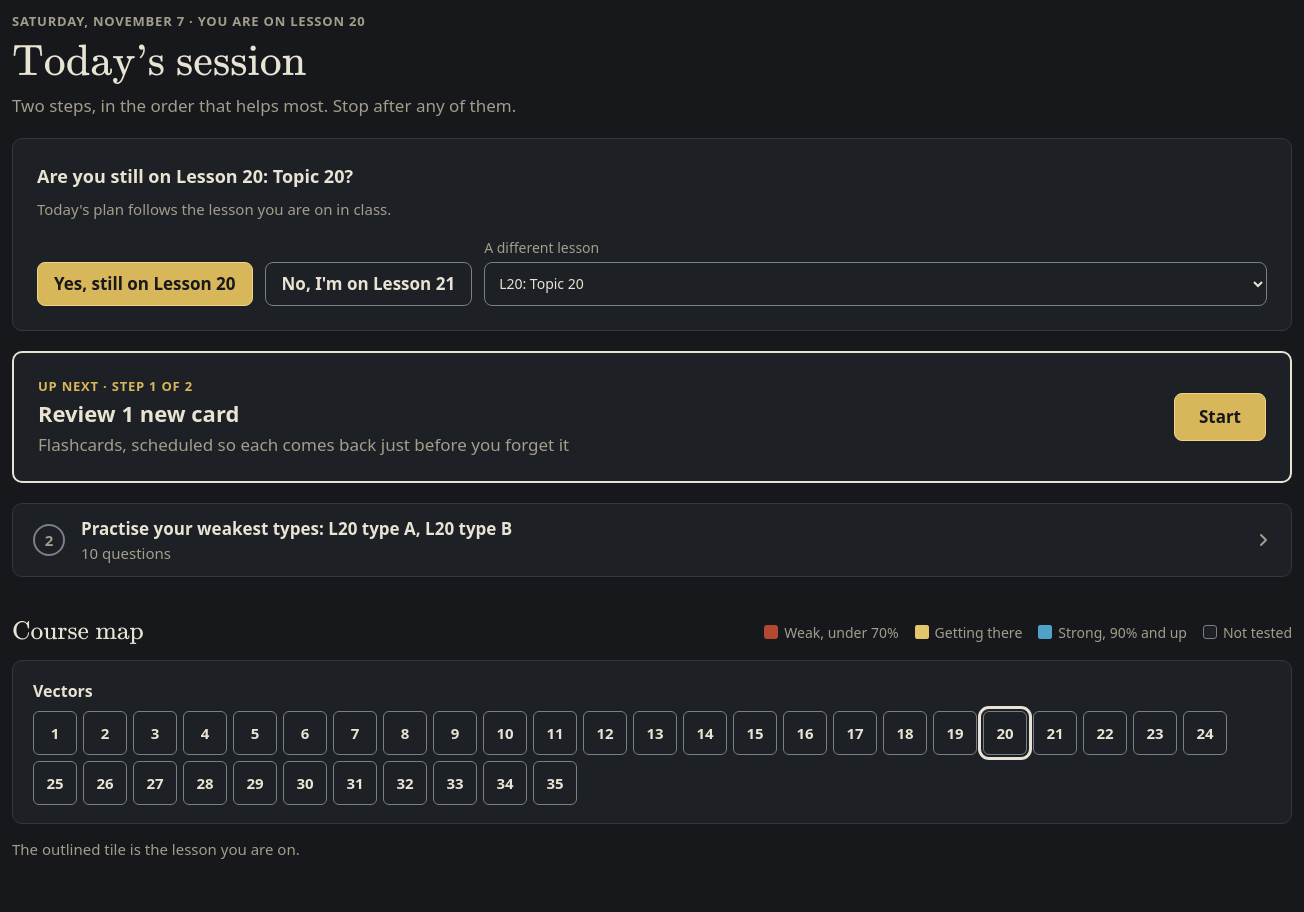
Test: the first visit of a day asks whether the current lesson is still right, and Yes settles it for the day
This screenshot has width=1304, height=912.
Expected: the heading "Today's session" is shown, 12,35 -> 306,87
Expected: the text "Are you still on Lesson 20: Topic 20?" is shown, 37,164 -> 353,188
Click the button "Yes, still on Lesson 20" at (145, 284), box 37,262 -> 252,306
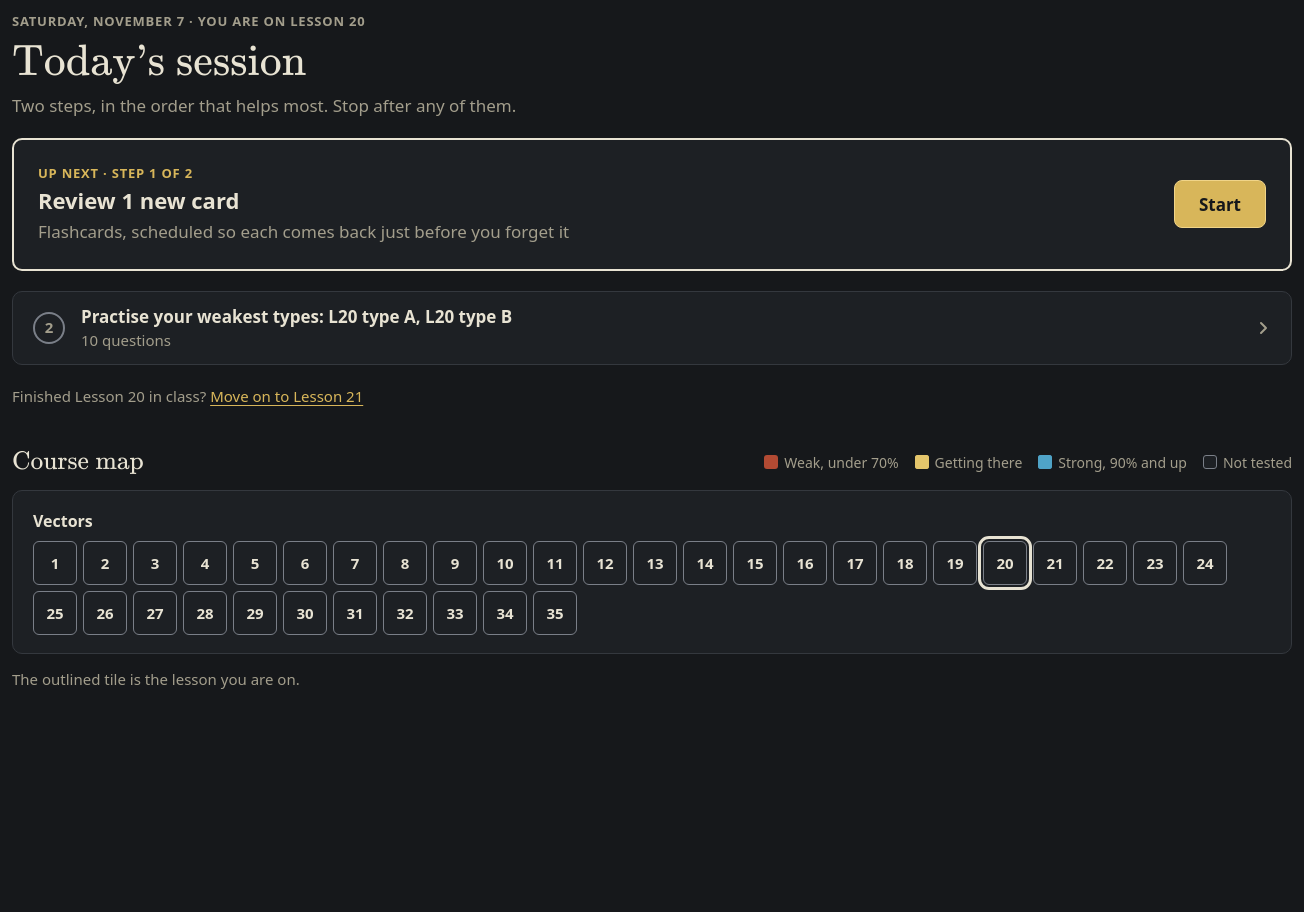
Expected: the text "Are you still on Lesson 20" is gone
Expected: the button "Move on to Lesson 21" is shown, 210,373 -> 363,419
